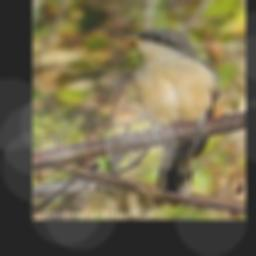Cuckoo: (118, 29, 222, 208)
